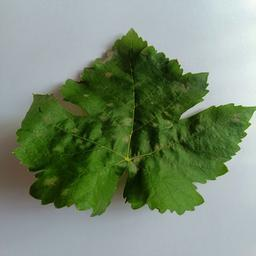Powdery-Mildew: (88, 148, 120, 188)
